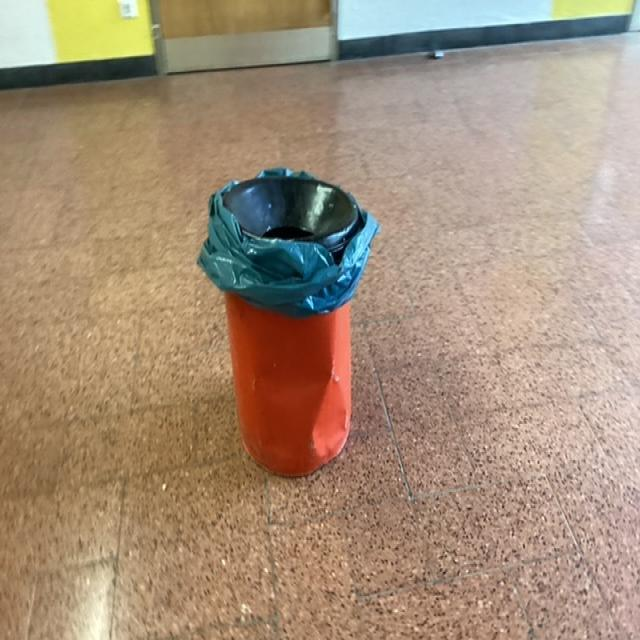garbage container: (162, 121, 388, 536)
